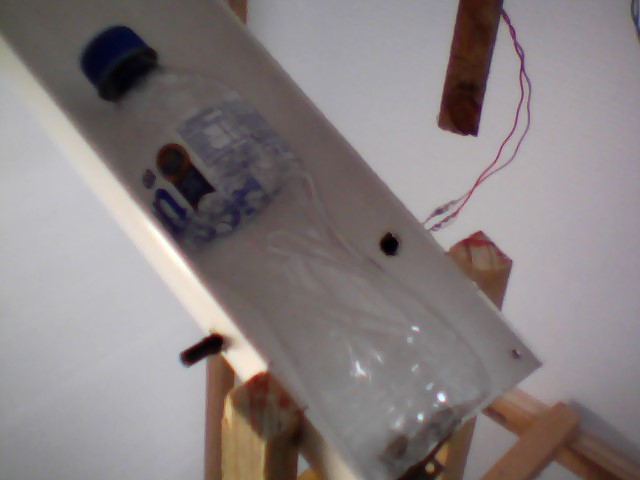plastico: (75, 19, 501, 480)
